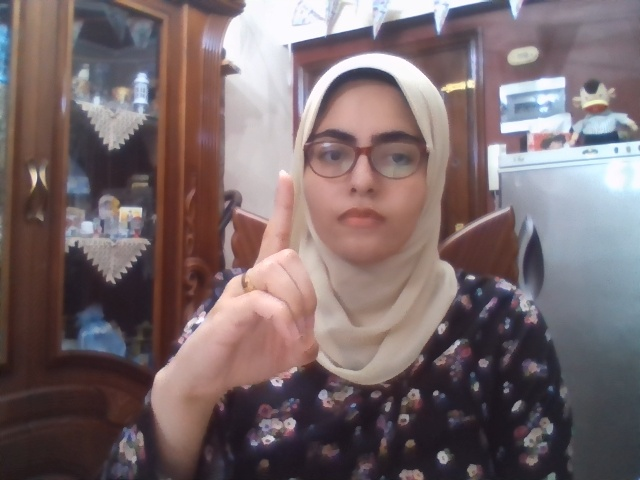D: (174, 171, 318, 398)
